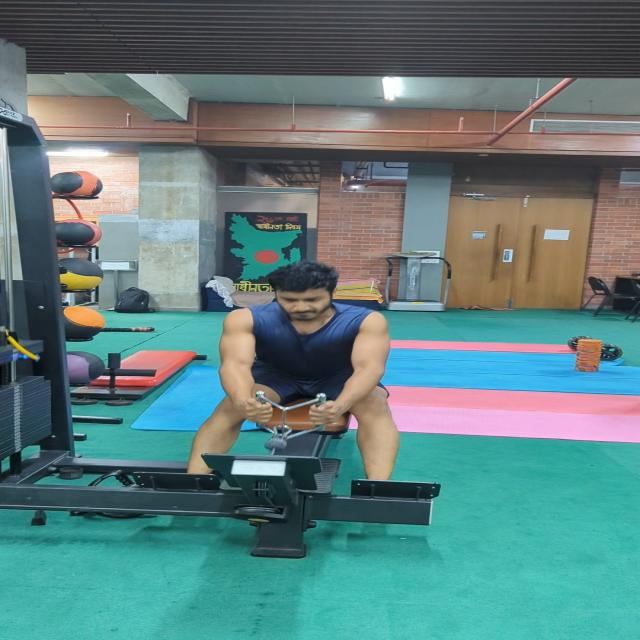Normal_RowingMachineExercise: (180, 255, 406, 483)
